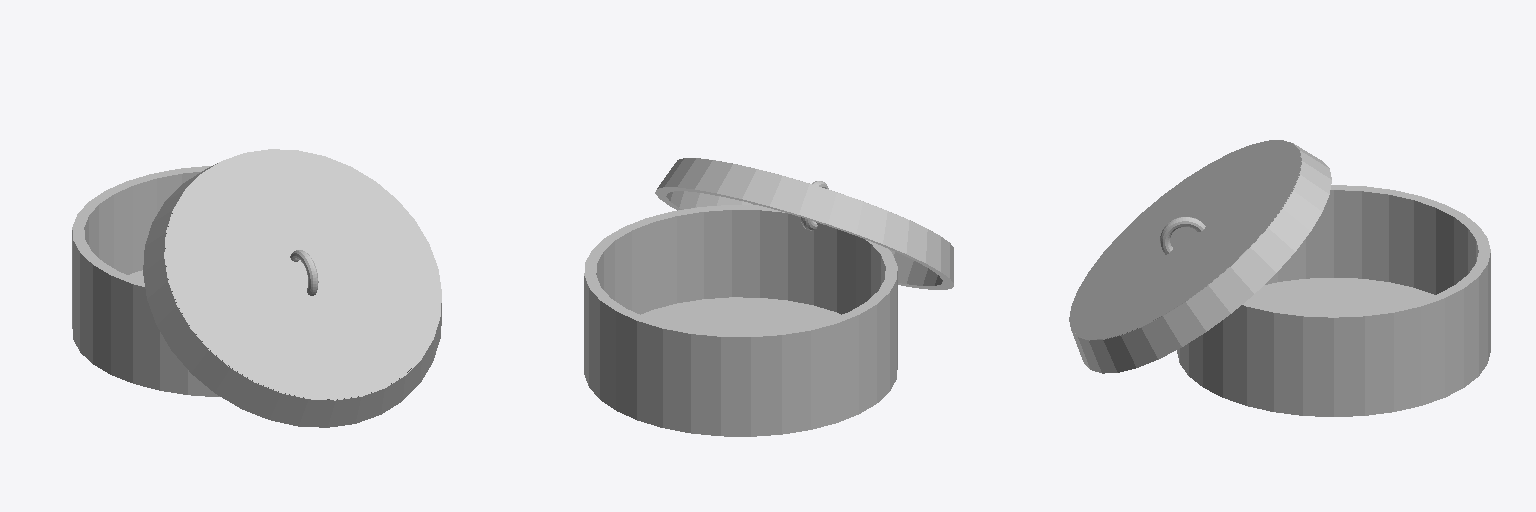
File: food_long.obj
3 renders of one model, left to right at view 1: azimuth 30°, elevation 25°; view 2: azimuth 150°, elevation 25°; view 3: azimuth 270°, elevation 25°, orthographic.
Visible parts, largest first — view 1: Untitled_Untitled.009; view 2: Untitled_Untitled.009; view 3: Untitled_Untitled.009.
Boxes of the visible parts, x1=… form: Untitled_Untitled.009: x1=72, y1=149, x2=441, y2=427; Untitled_Untitled.009: x1=584, y1=158, x2=953, y2=436; Untitled_Untitled.009: x1=1069, y1=140, x2=1490, y2=416.
Size of the model in its own units: 2 by 1.34 by 2.69.